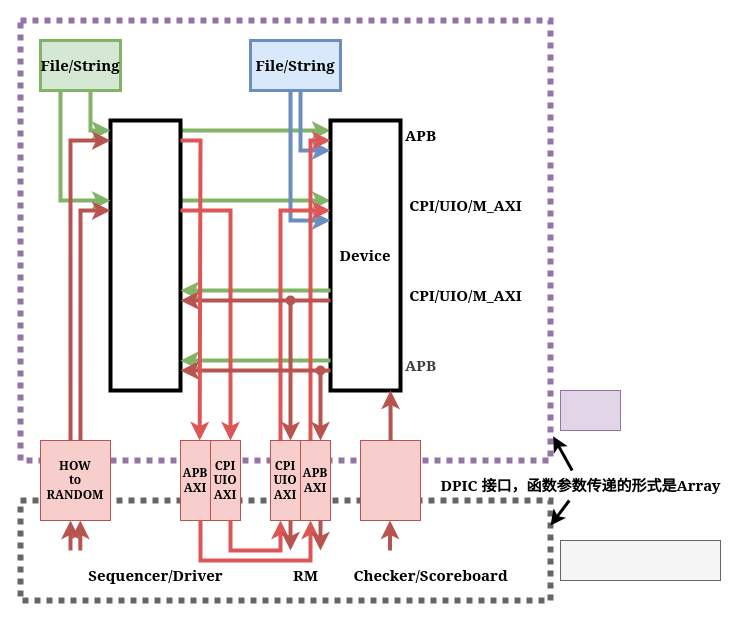
Some shapes in this 752 by 620 pixel diagram are drawn without their labels. The box of each missing label's shape, as (x1, y1, x2, y2) in pixels:
checker message: (360, 440, 420, 520)
CPP: (560, 390, 620, 430)
Host: (108, 118, 182, 392)
System Verilog: (560, 540, 720, 580)
